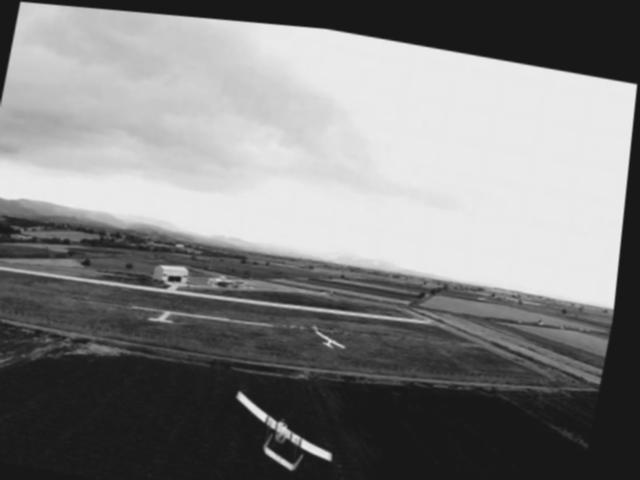hedef: (226, 377, 355, 473)
